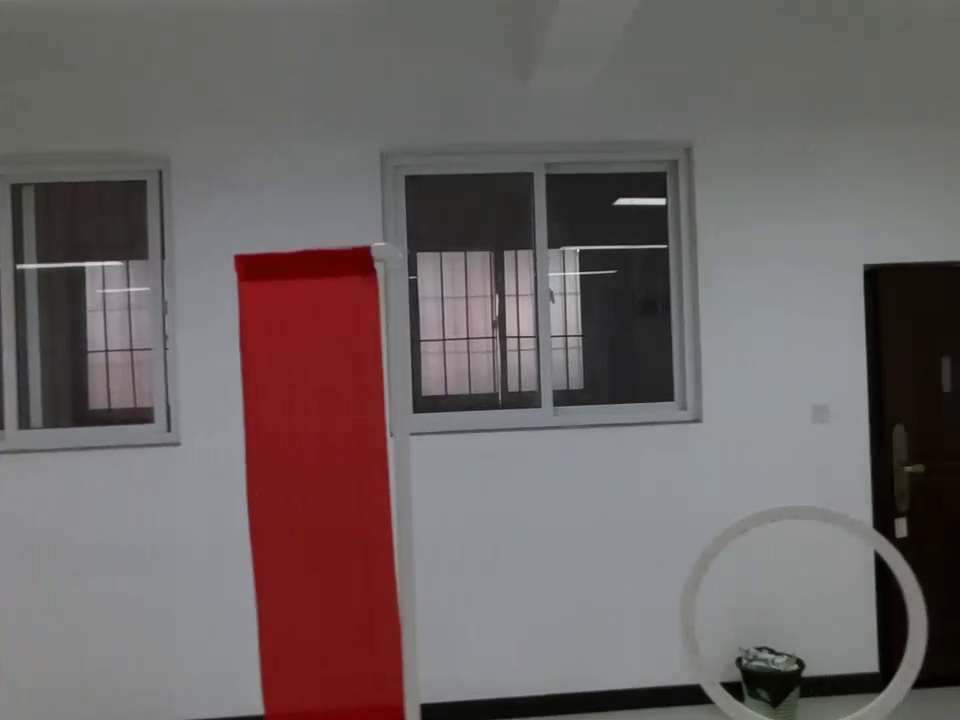qi: (232, 244, 406, 720)
quan: (671, 501, 937, 720)
